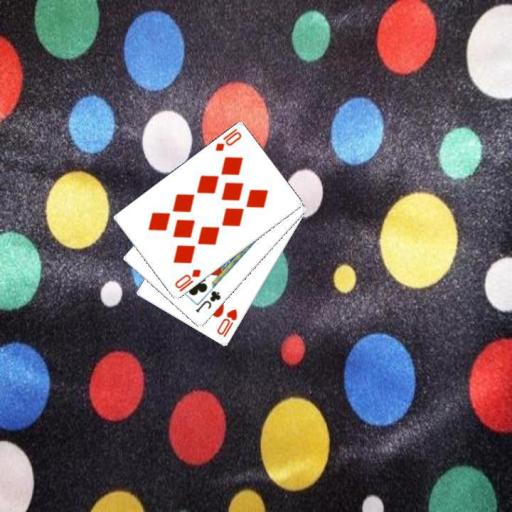10D: (171, 266, 203, 294), (212, 125, 243, 153)
10H: (213, 306, 239, 339)
JC: (192, 288, 223, 315)
